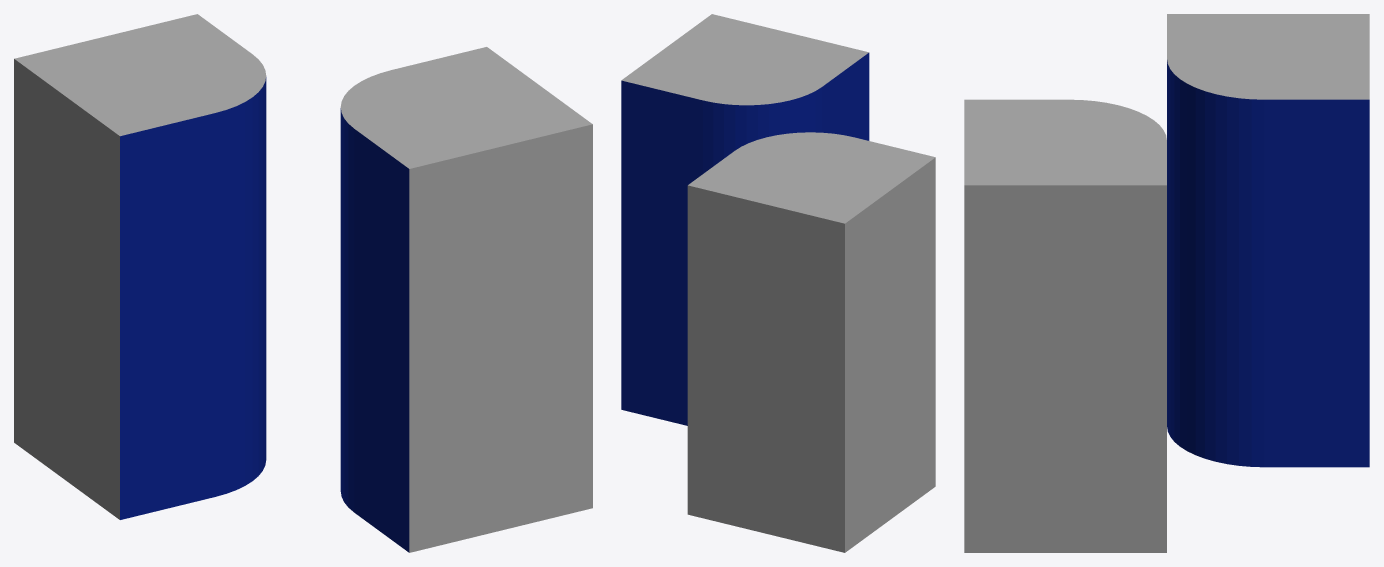
File: case_85.fbx
The picture shows the model from 3 angles, left to right: view 1: azimuth 30°, elevation 25°; view 2: azimuth 150°, elevation 25°; view 3: azimuth 270°, elevation 25°; orthographic projection. The views are drawn at different scales.
Visible parts, largest first — view 1: case_85; view 2: case_85; view 3: case_85.
Part boxes in pixels (x1=…): case_85: x1=14, y1=14, x2=592, y2=552; case_85: x1=621, y1=14, x2=935, y2=552; case_85: x1=964, y1=14, x2=1369, y2=552.
Size of the model in its own units: 1 by 1 by 1.
